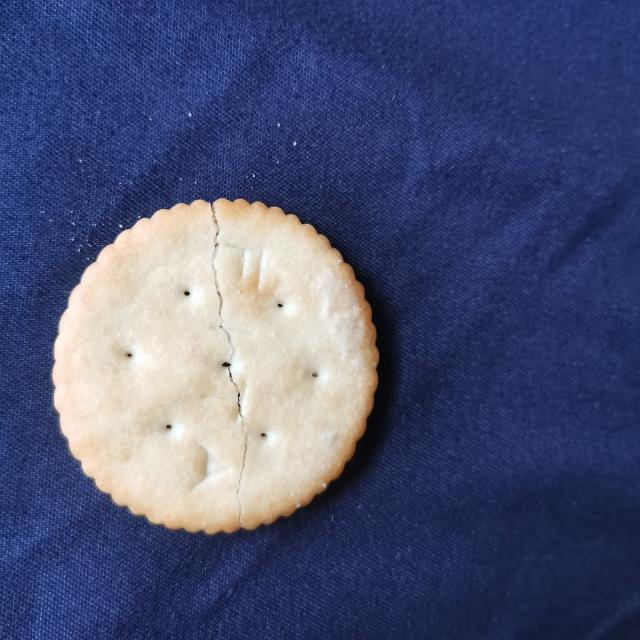Fracture: (187, 196, 266, 532)
